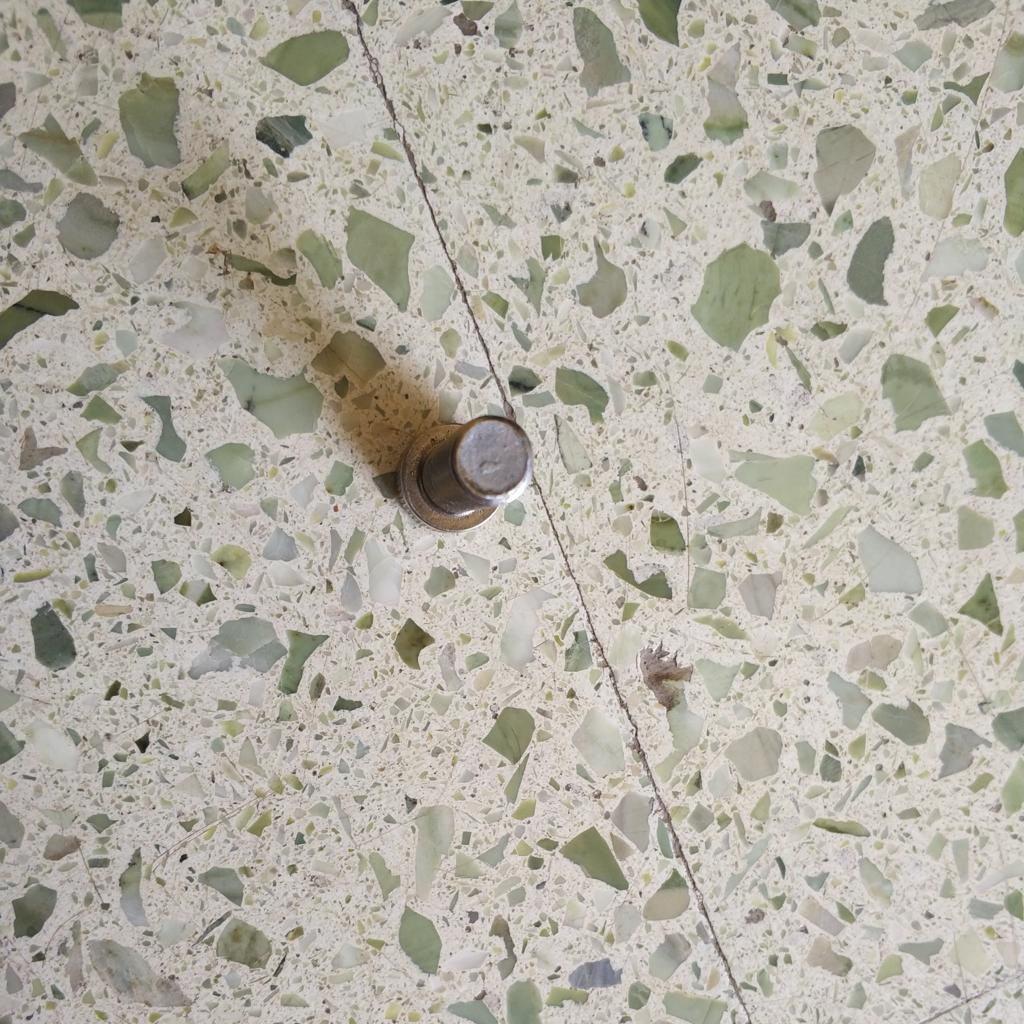screwtype1silver: (389, 413, 536, 541)
